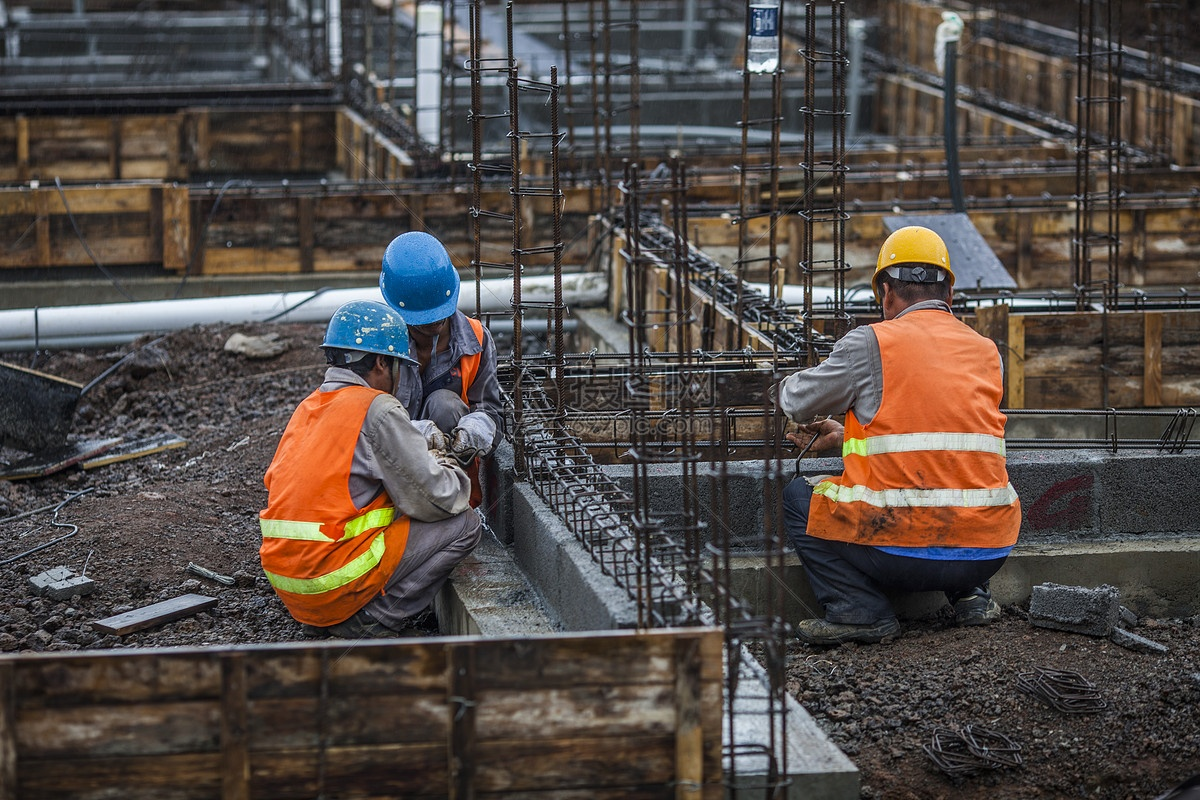blue: (316, 300, 410, 393), (380, 230, 459, 337)
yellow: (864, 222, 961, 318)
